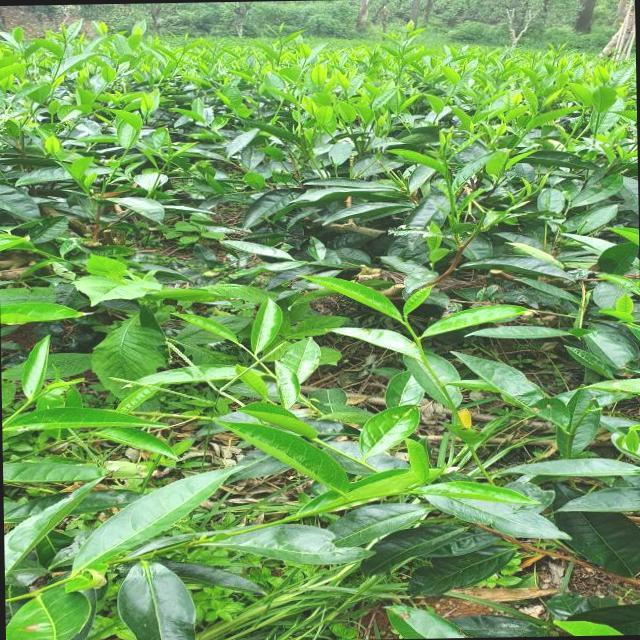Stem: (405, 322, 408, 326), (168, 158, 171, 161), (445, 164, 448, 167)
